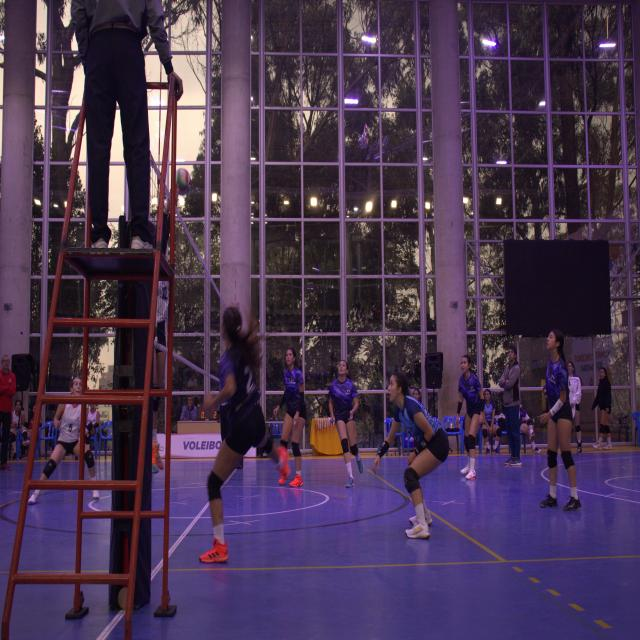volleyball: (175, 168, 191, 195)
